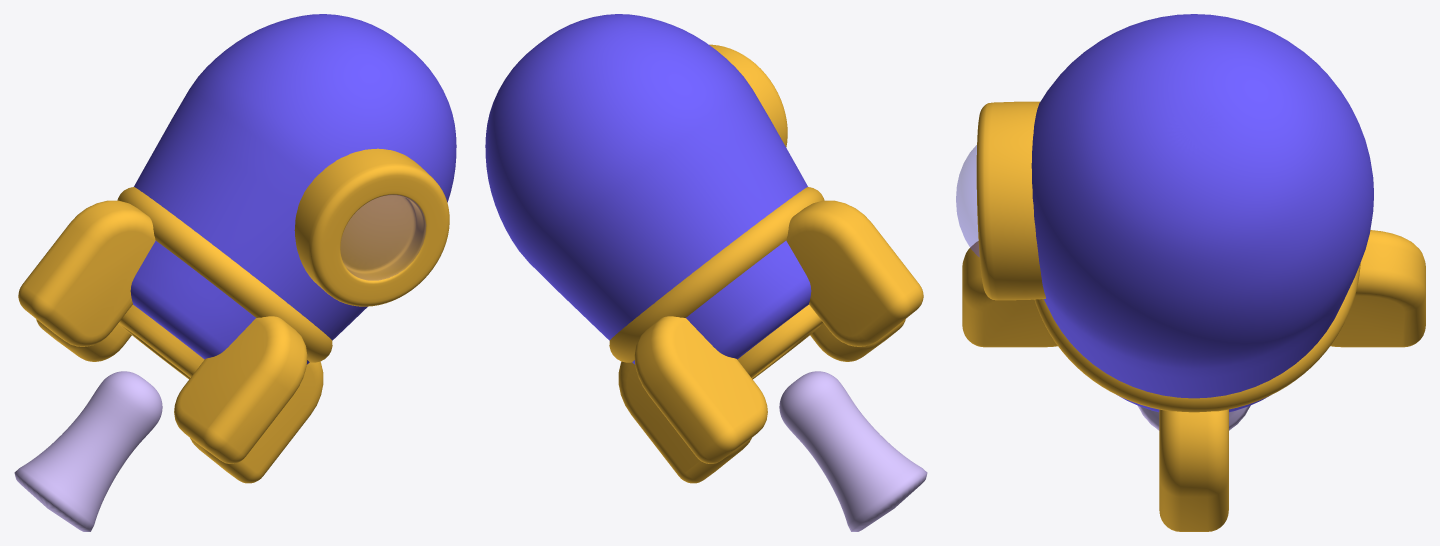
Rendered from rocket.glb.
3 views of the same model, side by side, from view 1: azimuth 30°, elevation 25°; view 2: azimuth 150°, elevation 25°; view 3: azimuth 270°, elevation 25° (orthographic). The views are drawn at different scales.
Parts seen in each view (by area): view 1: Cylinder, Cylinder.001, Cube, Cube.001, Cylinder.003, Torus, Sphere, Cylinder.002; view 2: Cylinder, Cube, Cube.001, Cylinder.003, Torus, Cylinder.002, Cylinder.001; view 3: Cylinder, Cube.001, Cylinder.001, Cube, Torus, Sphere.
Part boxes in pixels (box(x1,y1,x2,y2)): Cylinder: box(130, 14, 456, 364); Cylinder.001: box(294, 148, 449, 306); Cube: box(18, 200, 323, 483); Cube.001: box(36, 316, 307, 463); Cylinder.003: box(14, 371, 162, 531); Torus: box(117, 187, 332, 362); Sphere: box(340, 195, 425, 280); Cylinder.002: box(118, 305, 204, 379); Cylinder: box(485, 14, 811, 364); Cube: box(618, 200, 923, 483); Cube.001: box(634, 316, 905, 463); Cylinder.003: box(779, 371, 927, 531); Torus: box(609, 187, 824, 362); Cylinder.002: box(737, 305, 823, 379); Cylinder.001: box(709, 44, 787, 147); Cylinder: box(1031, 14, 1373, 412); Cube.001: box(962, 230, 1425, 347); Cylinder.001: box(976, 101, 1045, 300); Cube: box(1159, 409, 1228, 531); Torus: box(1034, 263, 1360, 412); Sphere: box(956, 145, 979, 256).
Size of the model in its own units: 3.14 by 3.18 by 2.43.
